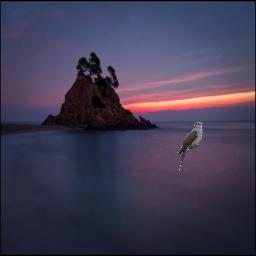Cuckoo: (177, 122, 203, 171)
